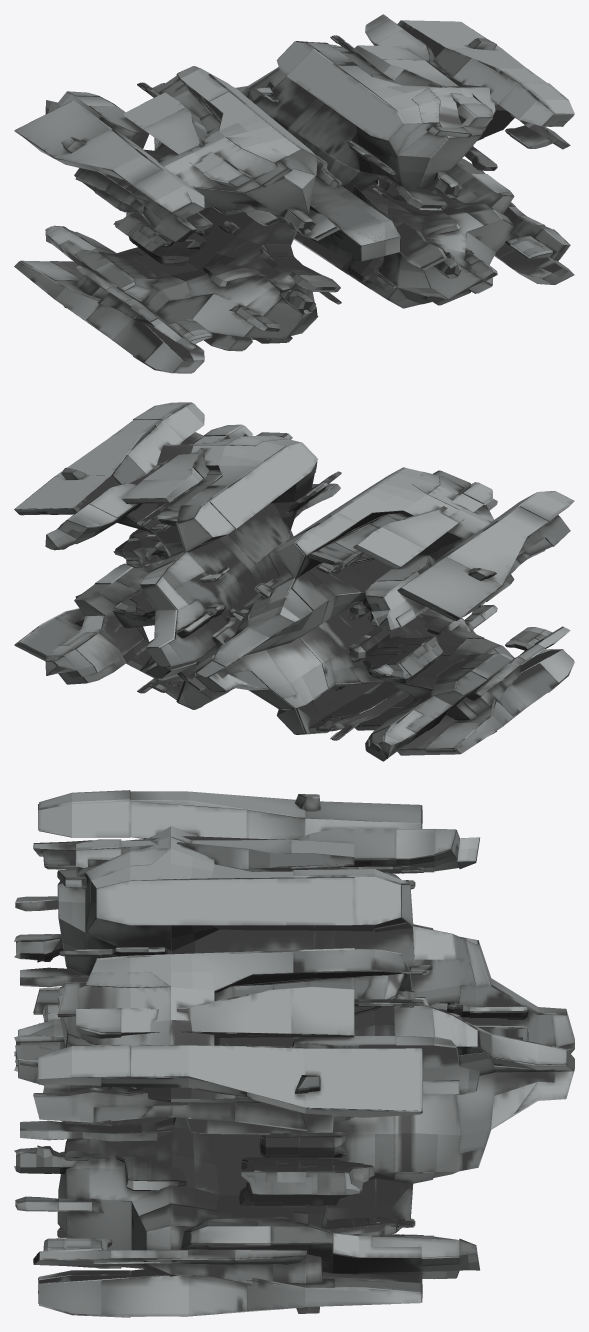
File: Destroyer_000.fbx
3 renders of one model, top to bottom at view 1: azimuth 30°, elevation 25°; view 2: azimuth 150°, elevation 25°; view 3: azimuth 270°, elevation 25°, orthographic. The views are drawn at different scales.
Parts seen in each view (by area): view 1: Destroyer_000; view 2: Destroyer_000; view 3: Destroyer_000.
Part boxes in pixels (<box>): Destroyer_000: <box>14,14,574,373</box>; Destroyer_000: <box>14,402,574,761</box>; Destroyer_000: <box>14,790,574,1317</box>.
Bounding box in the file's own units: 47.14 × 20.23 × 36.28.
